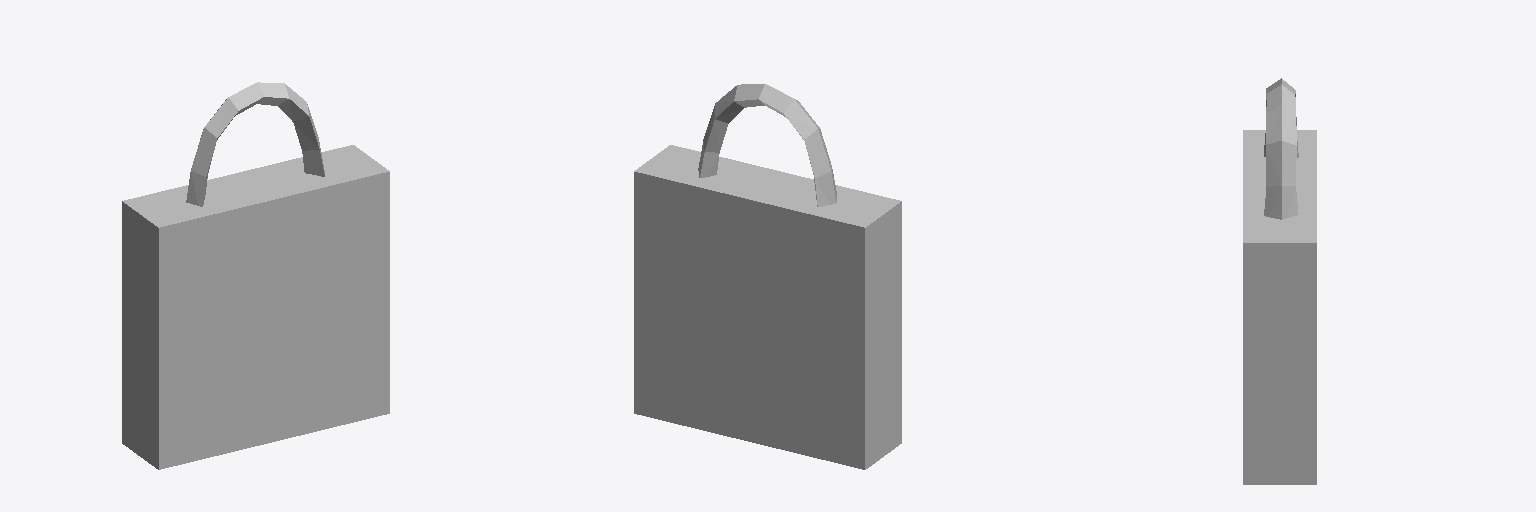
The model's file is Key Lock.obj.
3 views of the same model, side by side, from view 1: azimuth 30°, elevation 25°; view 2: azimuth 150°, elevation 25°; view 3: azimuth 270°, elevation 25° (orthographic).
Visible parts, largest first — view 1: MODELS_bin_021:poly001; view 2: MODELS_bin_021:poly001; view 3: MODELS_bin_021:poly001.
Boxes of the visible parts, x1,y1,x2,y2 form: MODELS_bin_021:poly001: [122, 82, 389, 469]; MODELS_bin_021:poly001: [634, 84, 901, 469]; MODELS_bin_021:poly001: [1243, 78, 1316, 484].
Bounding box in the file's own units: 0.8953 × 1.28 × 0.2453.